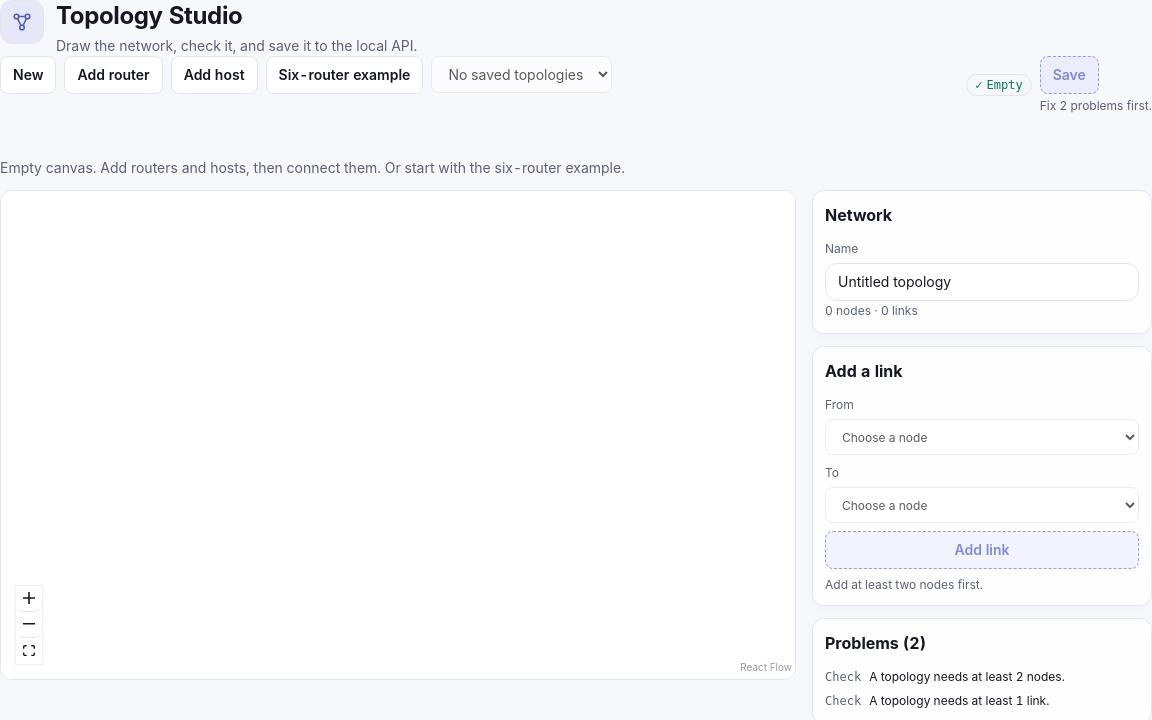
failure states › a stale version is a conflict: nothing is overwritten, and the server version can be loaded
This screenshot has width=1152, height=720.
Click the button "Six-router example" at (344, 75), box [266, 56, 423, 94]
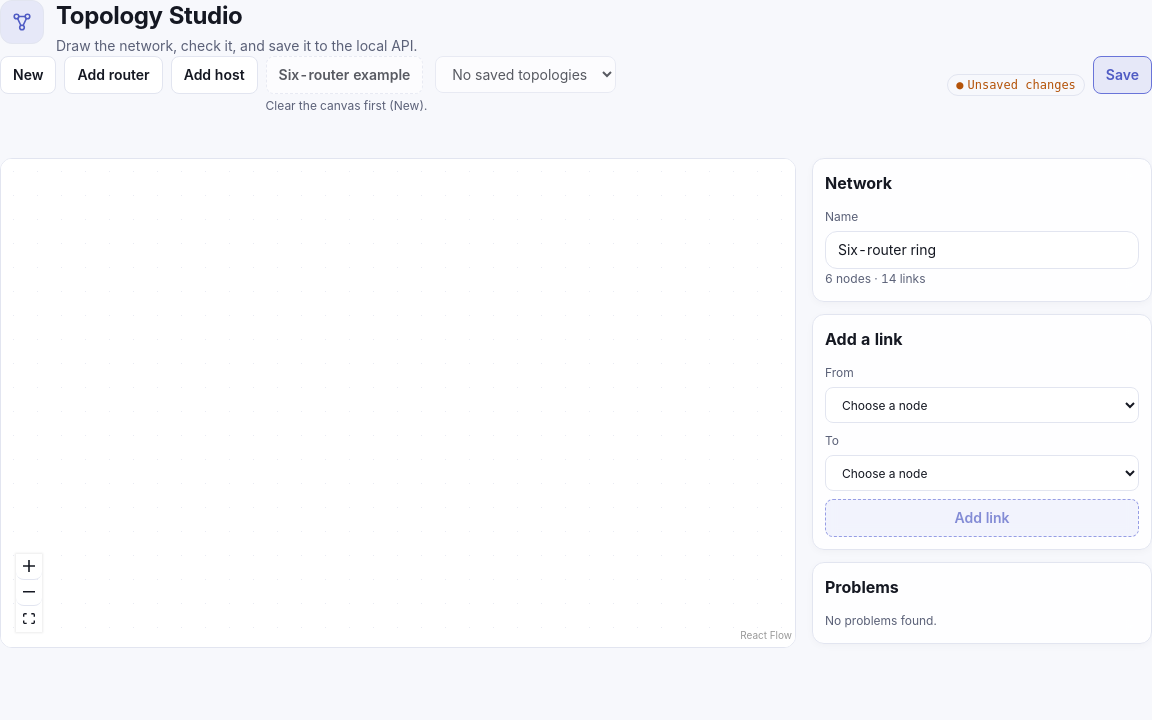
Click the button "Save" at (1122, 75), box [1093, 56, 1151, 94]
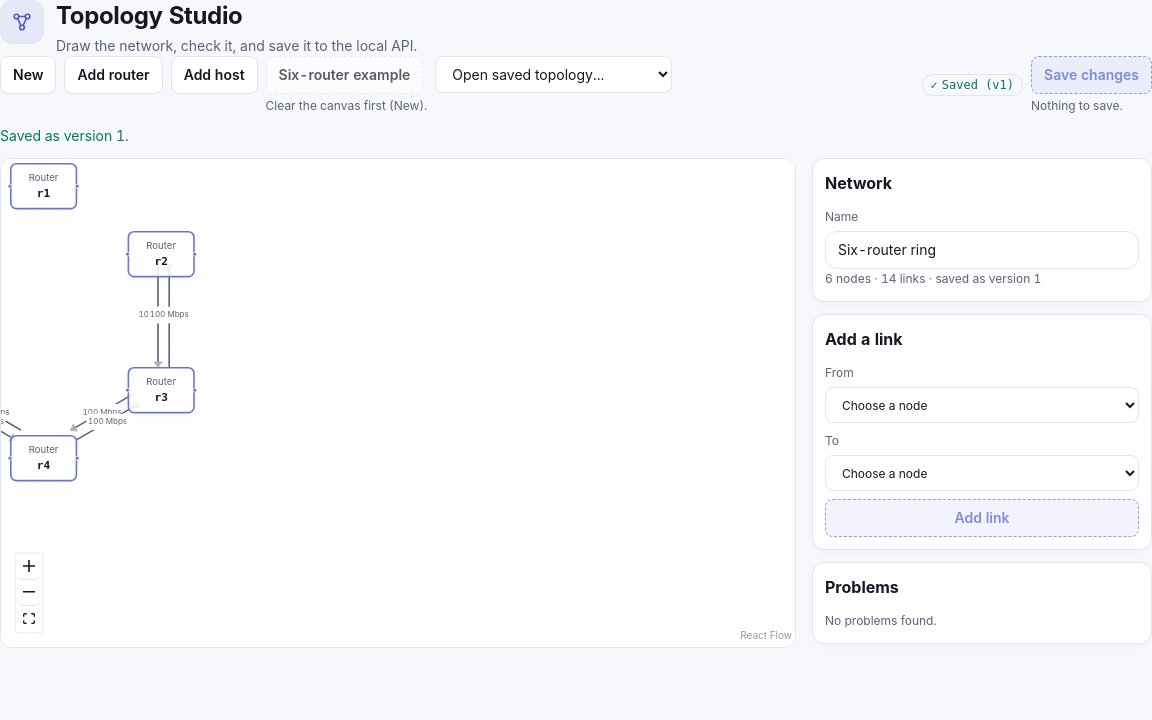
Now the text "Saved as version 1." is shown, box [0, 127, 129, 144]
Replace the text in the field labelled "Name" with "My edit" at (982, 250), box [825, 231, 1139, 269]
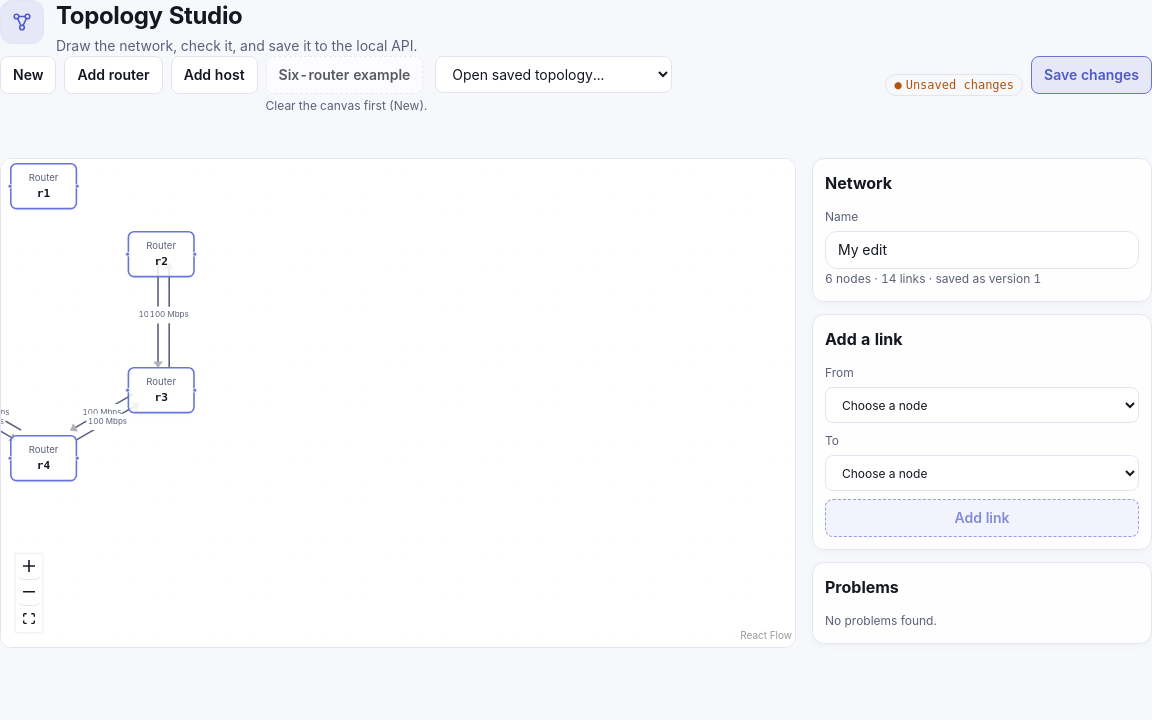
Click the button "Save changes" at (1092, 75), box [1031, 56, 1151, 94]
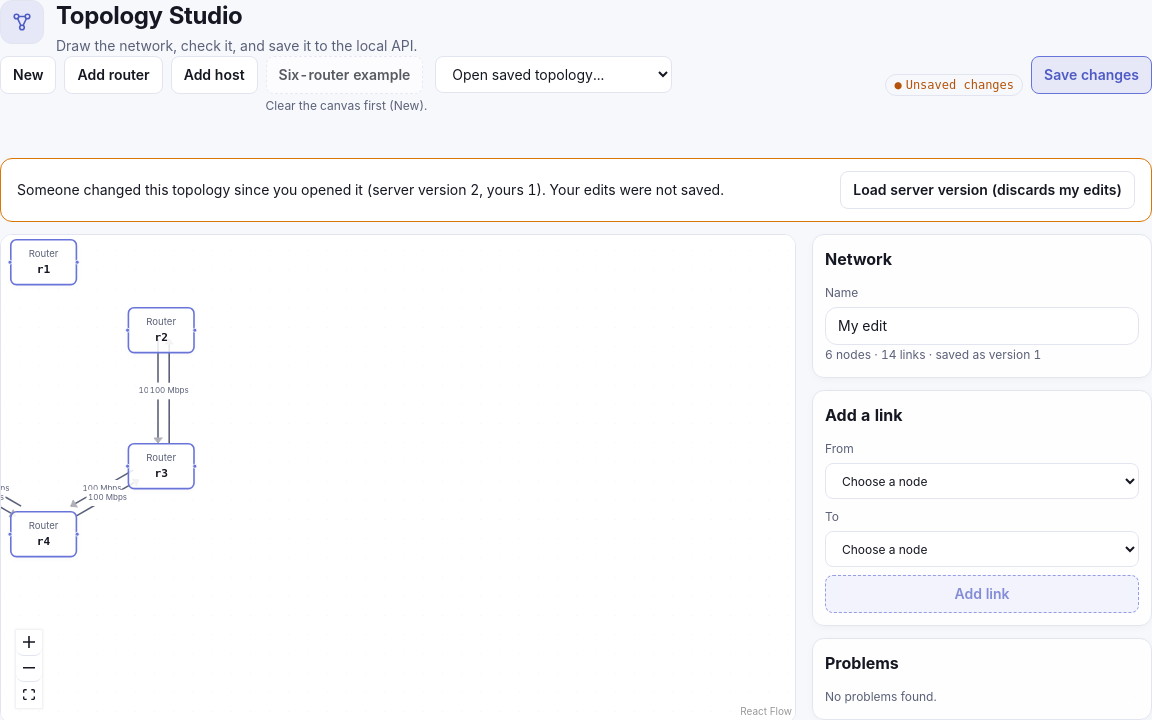
Now the text "Someone changed this topology" shows "server version 2, yours 1", box [363, 181, 542, 198]
Click the button "Load server version (discards my edits)" at (988, 190), box [840, 171, 1135, 209]
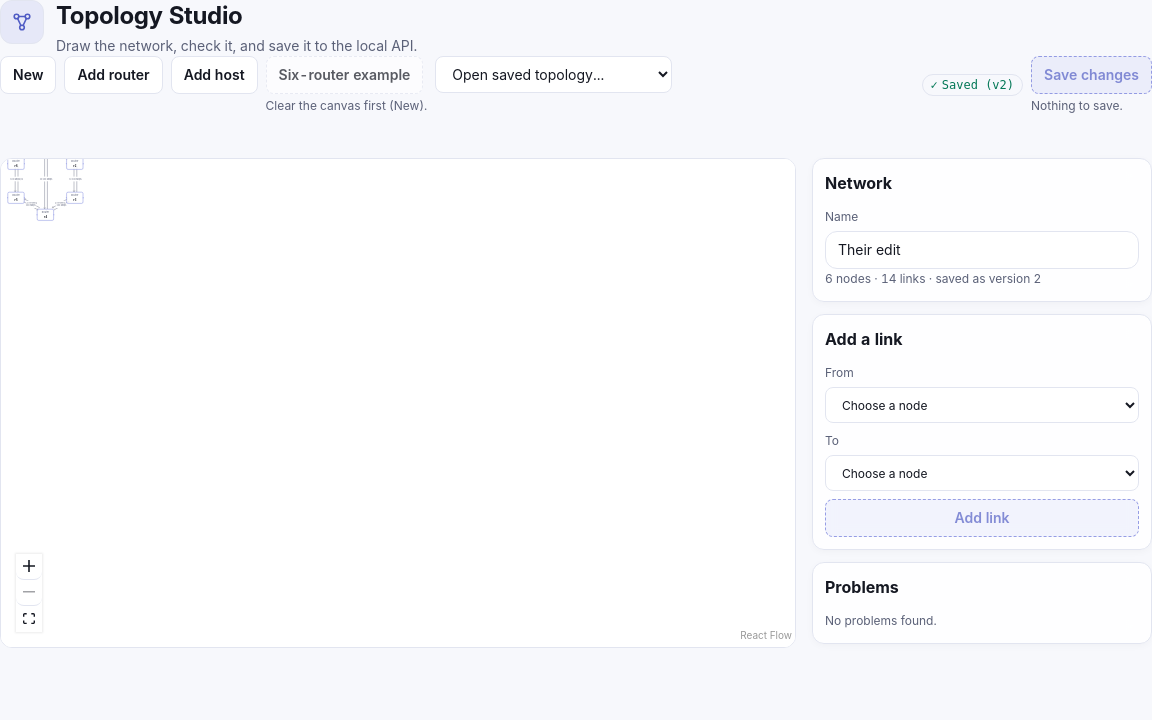
Now the field labelled "Name" holds "Their edit", box [825, 231, 1139, 269]
Now the text "Saved (v2)" is shown, box [942, 78, 1014, 92]
Now the text "Someone changed this topology" is gone
